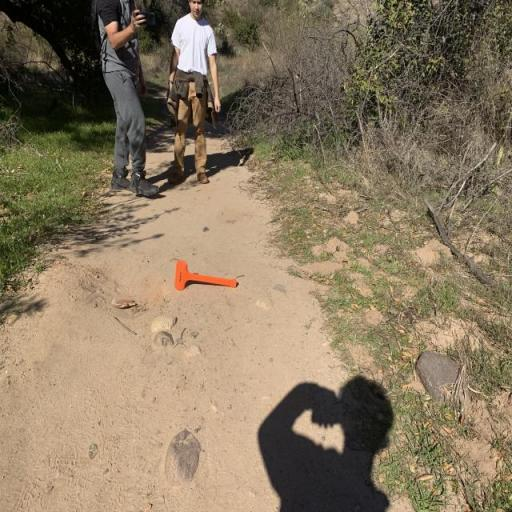mallet: (173, 259, 237, 297)
